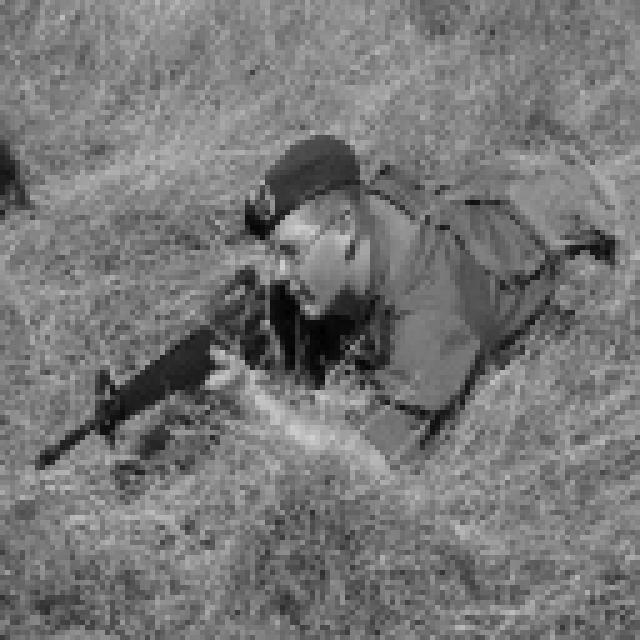Rifle: (0, 240, 310, 485)
